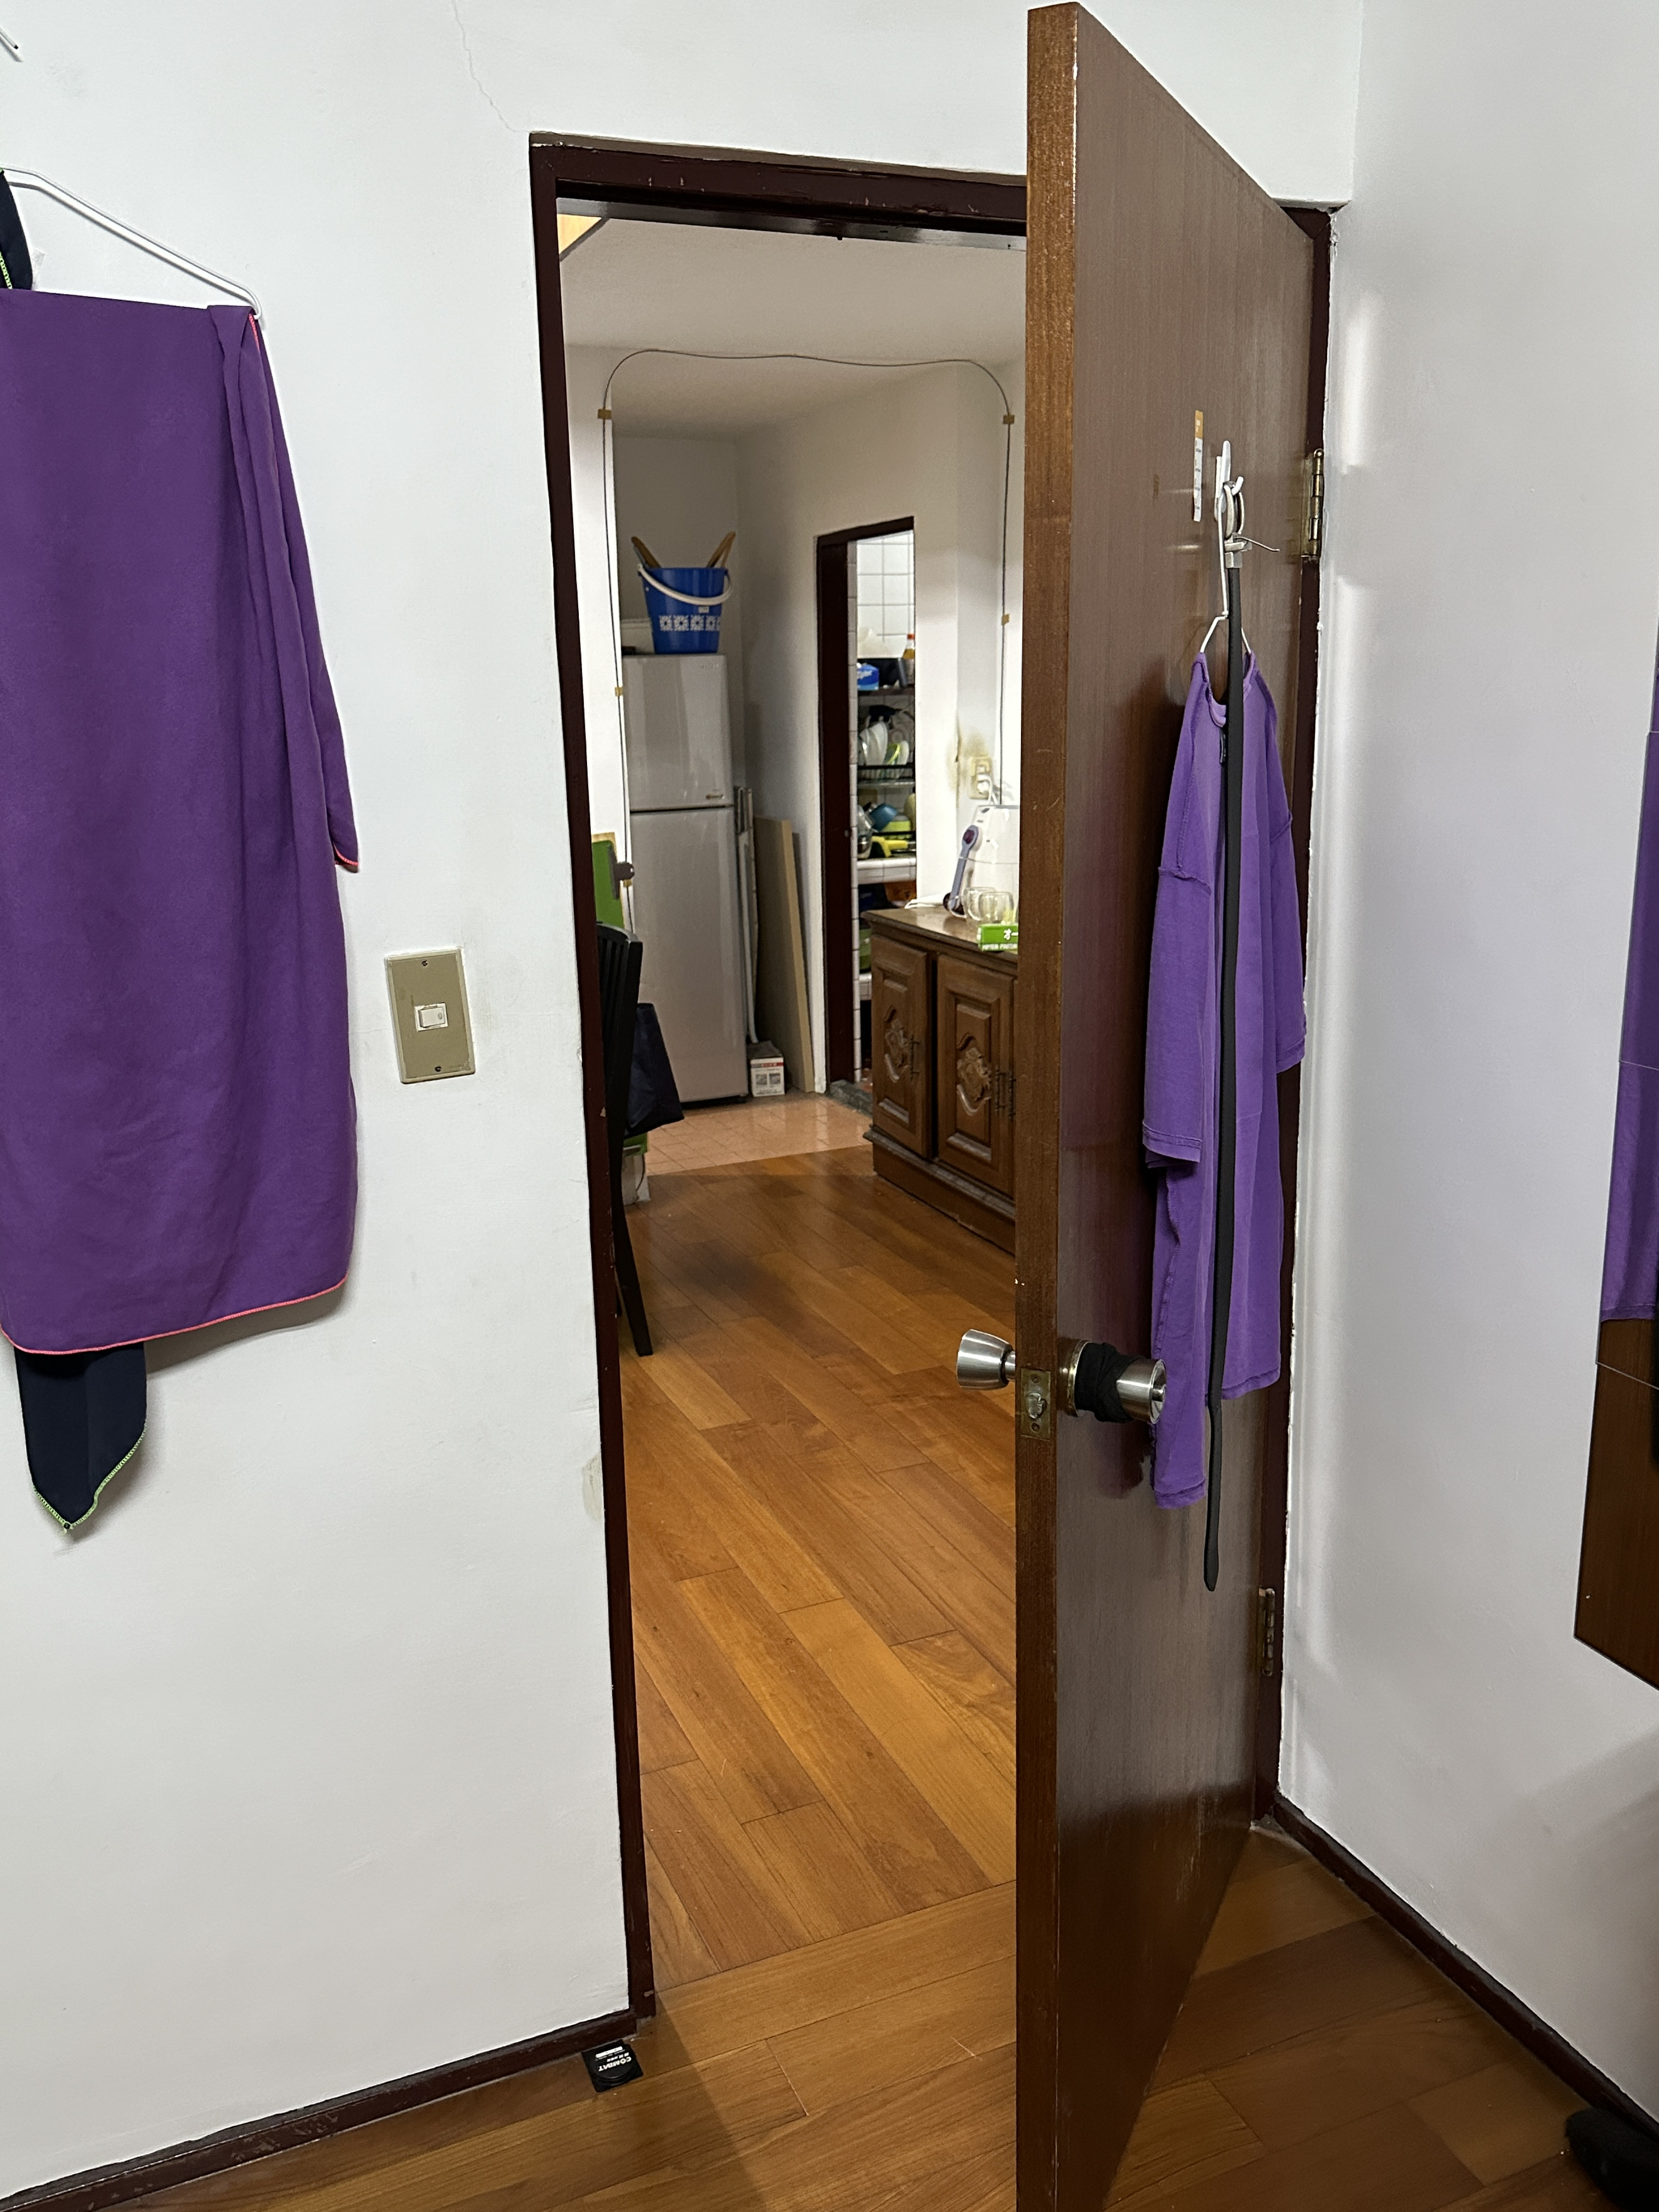Door Open: (270, 211, 1606, 2162)
